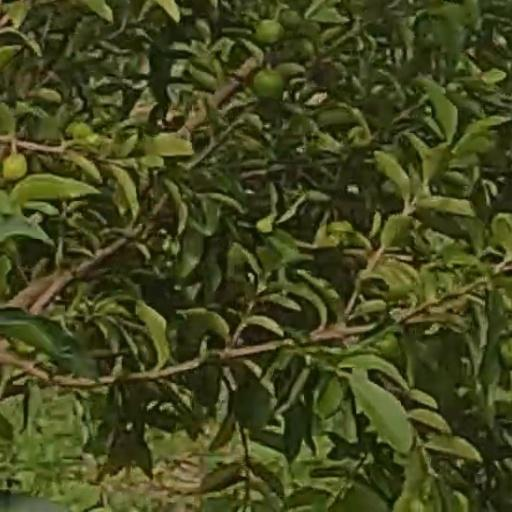acerola: (257, 70, 284, 101), (5, 154, 29, 183)
